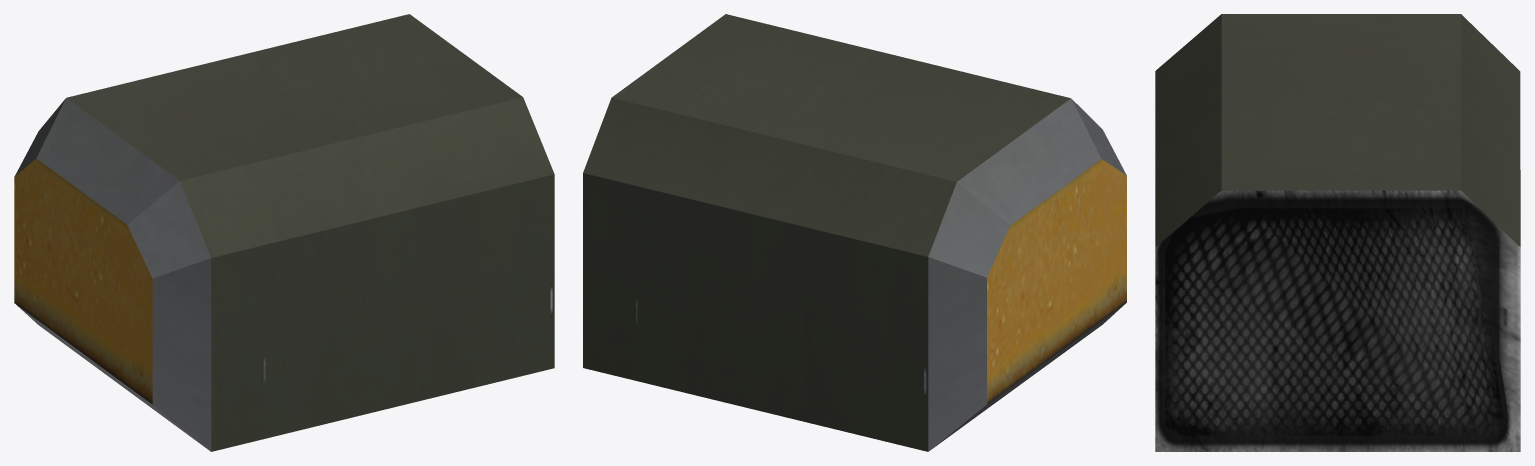
Rendered from SmallPowerBox.fbx.
The picture shows the model from 3 angles, left to right: view 1: azimuth 30°, elevation 25°; view 2: azimuth 150°, elevation 25°; view 3: azimuth 270°, elevation 25°; orthographic projection. The views are drawn at different scales.
Parts seen in each view (by area): view 1: SmallPowerBox; view 2: SmallPowerBox; view 3: SmallPowerBox.
Boxes of the visible parts, x1,y1,x2,y2 form: SmallPowerBox: [14, 14, 554, 451]; SmallPowerBox: [583, 14, 1126, 451]; SmallPowerBox: [1155, 14, 1520, 451].
Size of the model in its own units: 17.87 by 11.01 by 13.95.
